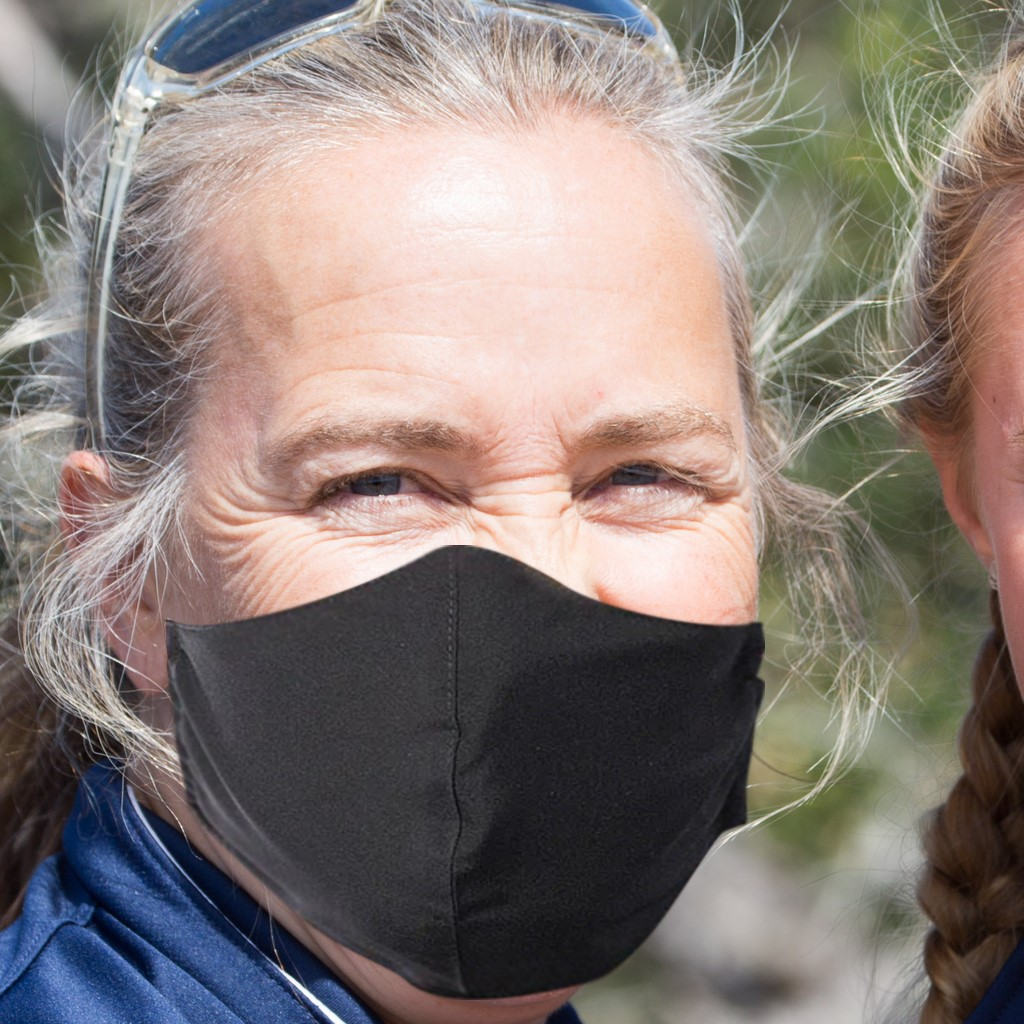con_mascara: (143, 107, 761, 978)
